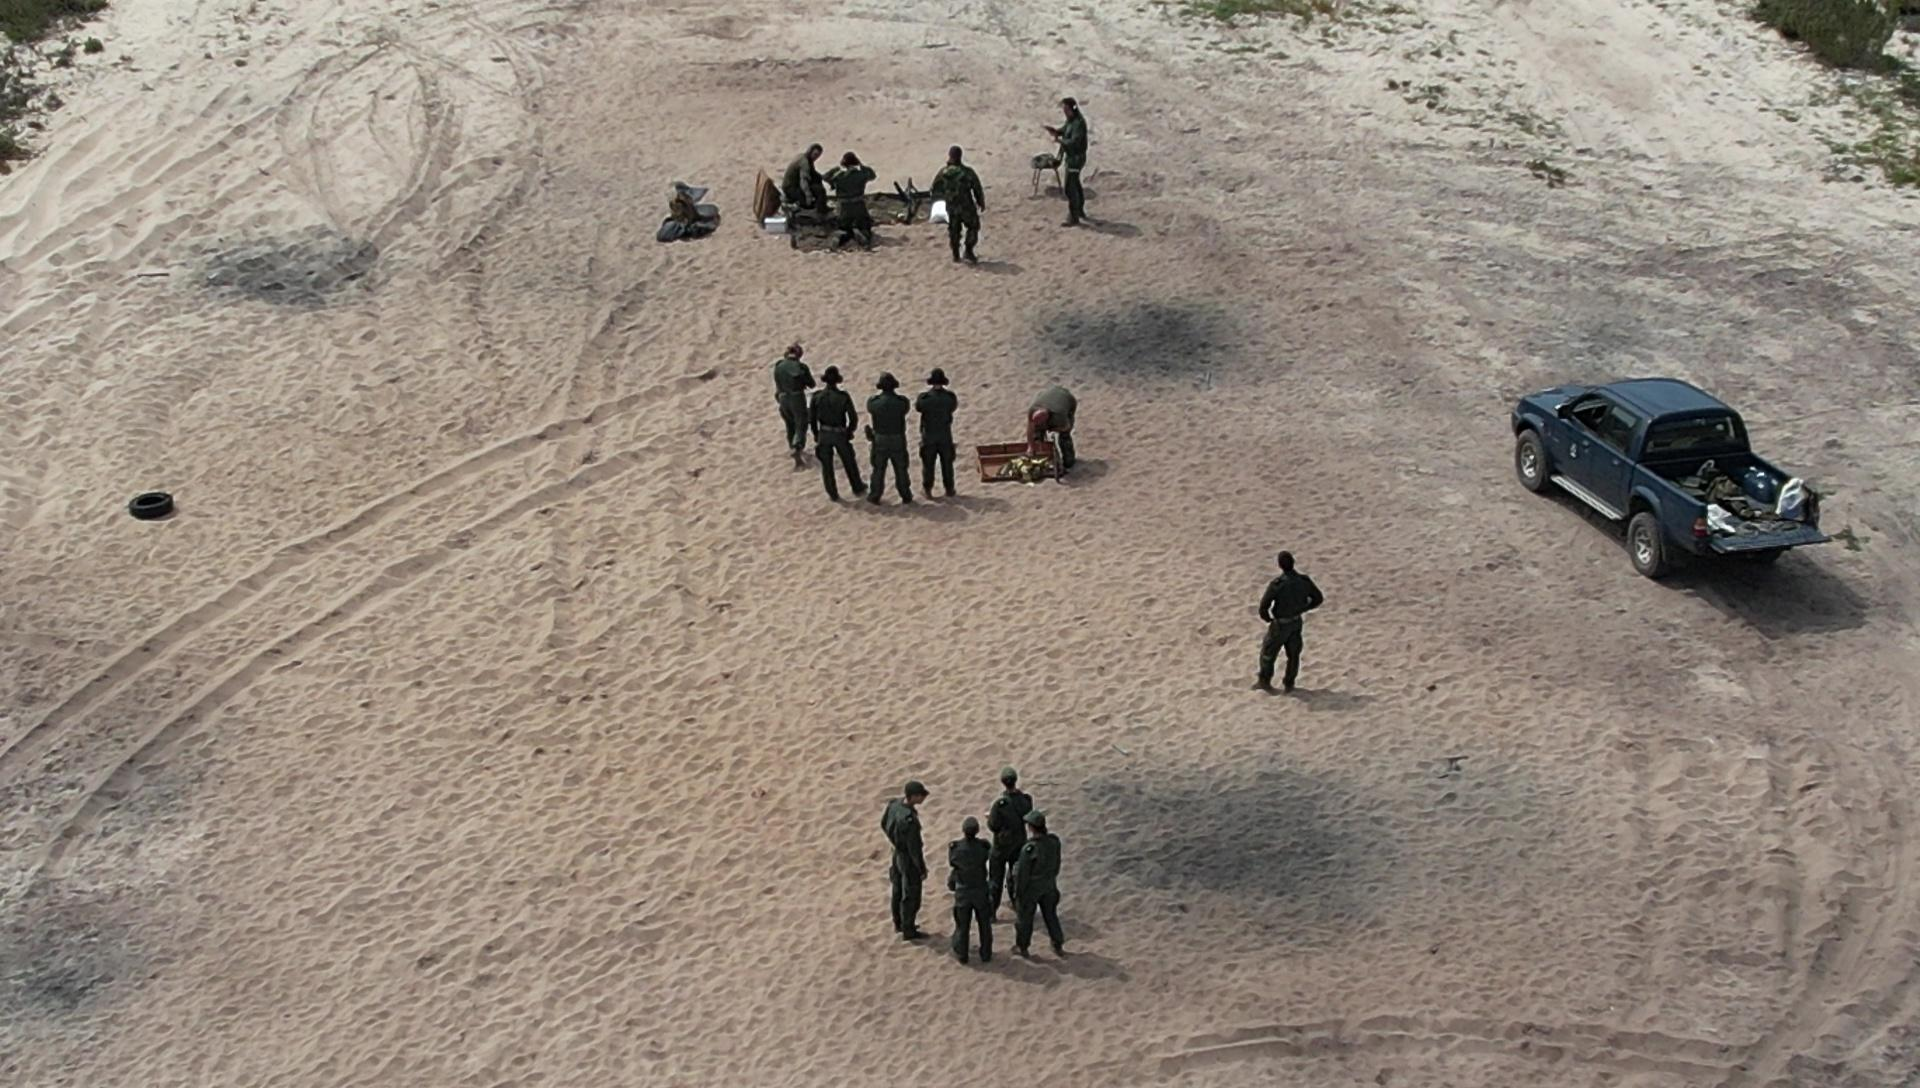Soldier: (874, 754, 943, 971), (1247, 538, 1328, 719), (988, 803, 1073, 968), (786, 355, 866, 524), (1036, 96, 1112, 245), (943, 818, 1017, 969), (858, 363, 920, 528), (1010, 382, 1093, 501), (989, 762, 1040, 946), (773, 336, 829, 484), (818, 145, 882, 266), (914, 367, 965, 509), (938, 140, 986, 281), (785, 121, 837, 233)
